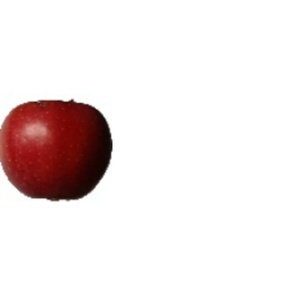maçã braeburn: (1, 97, 114, 203)
